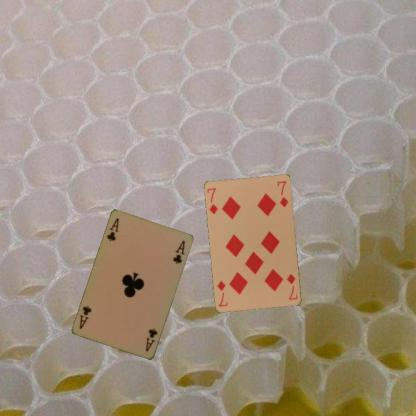7d: (284, 272, 299, 301), (205, 186, 219, 216)
Ac: (104, 216, 121, 243), (143, 326, 159, 353)
